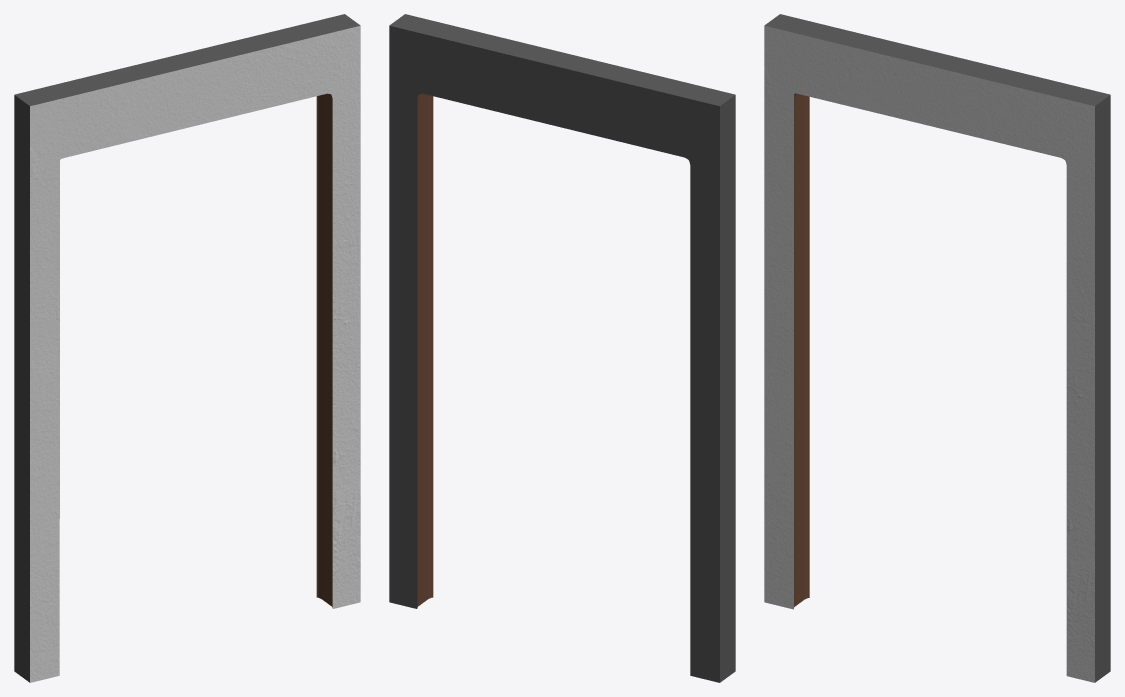
File: Wall_8.fbx
3 renders of one model, left to right at view 1: azimuth 30°, elevation 25°; view 2: azimuth 150°, elevation 25°; view 3: azimuth 330°, elevation 25°, orthographic.
Visible parts, largest first — view 1: Wall_8; view 2: Wall_8; view 3: Wall_8.
Boxes of the visible parts, bbox=[...] form: Wall_8: bbox=[14, 14, 360, 682]; Wall_8: bbox=[389, 14, 735, 682]; Wall_8: bbox=[764, 14, 1110, 682].
Bounding box in the file's own units: 120 × 200 × 10.
